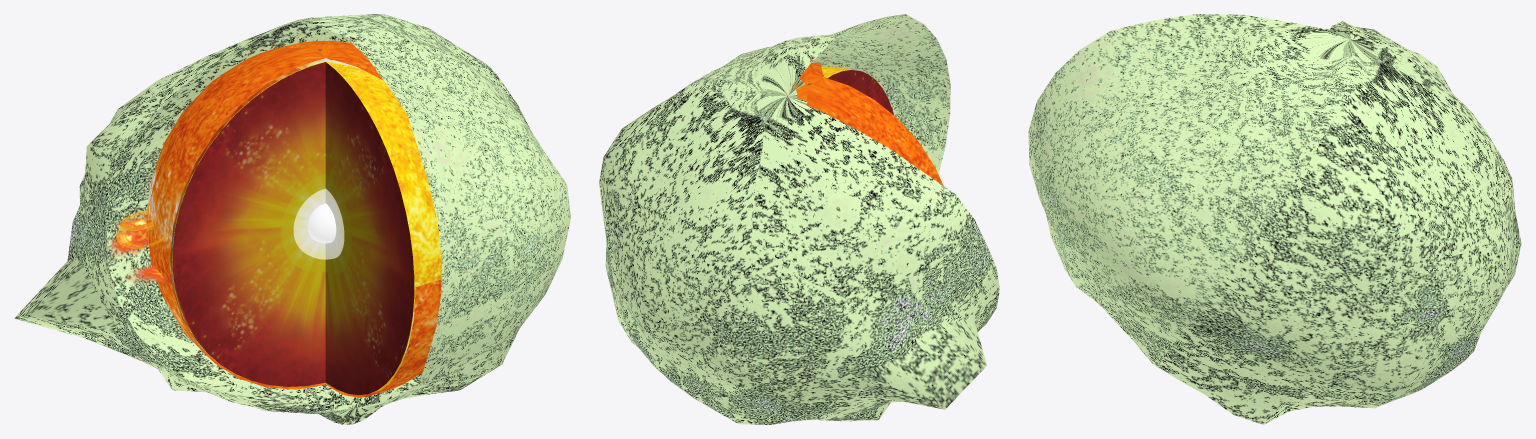
The model's file is Sun3.glb.
3 renders of one model, left to right at view 1: azimuth 30°, elevation 25°; view 2: azimuth 150°, elevation 25°; view 3: azimuth 270°, elevation 25°, orthographic. The views are drawn at different scales.
Visible parts, largest first — view 1: Sphere.001, Círculo.001, Círculo.003, Sphere, Cube.001, Cube.004, Cube.002, Cube.003; view 2: Sphere.001, Sphere, Círculo.003; view 3: Sphere.001.
Boxes of the visible parts, box(x1,y1,x2,y2) form: Sphere.001: box(14, 14, 570, 424); Círculo.001: box(172, 62, 382, 386); Círculo.003: box(244, 62, 414, 395); Sphere: box(146, 40, 441, 397); Cube.001: box(172, 61, 441, 392); Cube.004: box(293, 188, 344, 259); Cube.002: box(170, 58, 360, 387); Cube.003: box(308, 203, 335, 242); Sphere.001: box(599, 14, 999, 424); Sphere: box(787, 62, 943, 185); Círculo.003: box(827, 70, 893, 114); Sphere.001: box(1028, 14, 1521, 424).
Size of the model in its own units: 1.94 by 1.58 by 1.92.
Materials: 9 (9 with a texture image).
